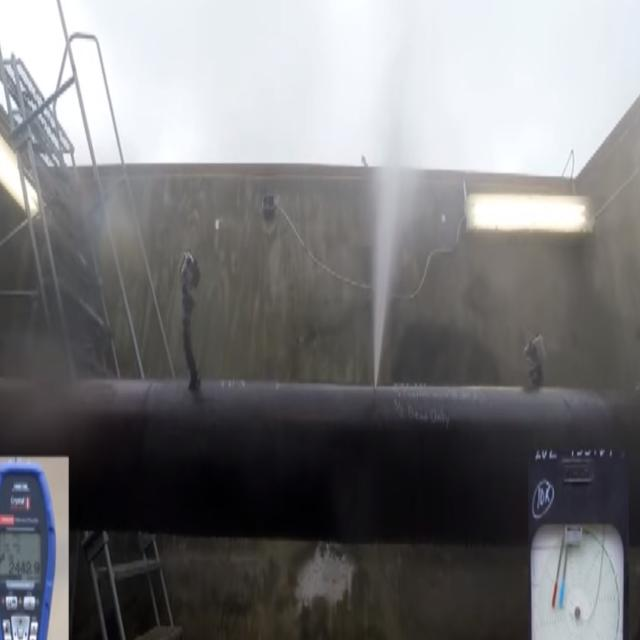leak: (369, 169, 410, 391)
